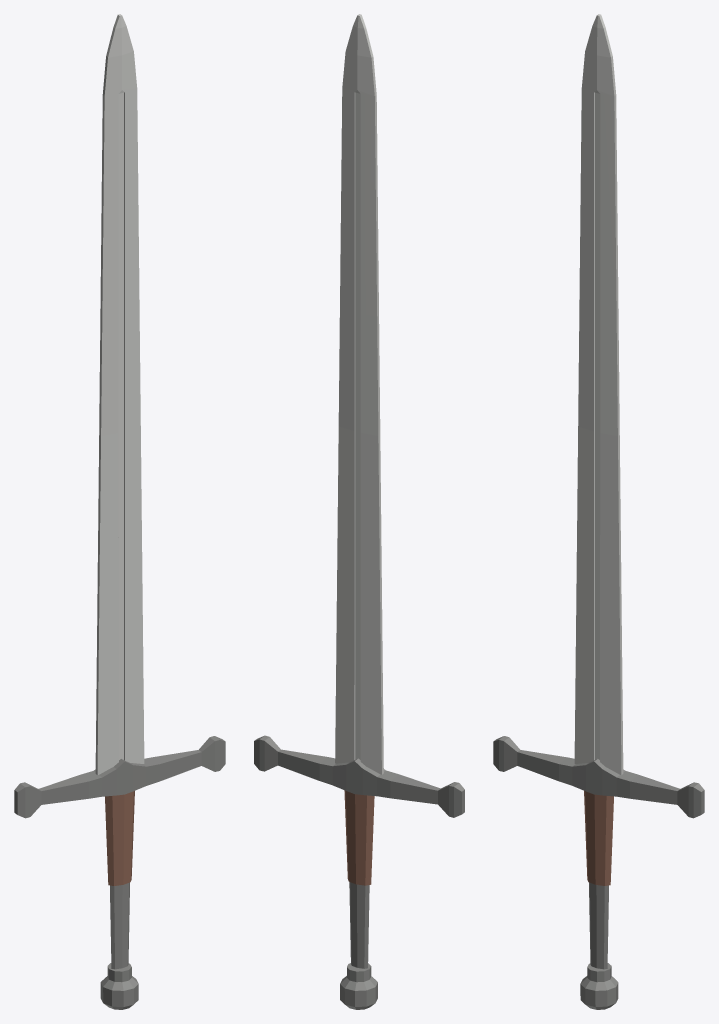
The model's file is sword2.glb.
3 renders of one model, left to right at view 1: azimuth 30°, elevation 25°; view 2: azimuth 150°, elevation 25°; view 3: azimuth 330°, elevation 25°, orthographic.
Visible parts, largest first — view 1: Greatsword; view 2: Greatsword; view 3: Greatsword.
Boxes of the visible parts, x1,y1,x2,y2 form: Greatsword: (14, 14, 225, 1009); Greatsword: (254, 14, 464, 1009); Greatsword: (493, 14, 704, 1009).
Size of the model in its own units: 0.4133 by 1.88 by 0.0627.
